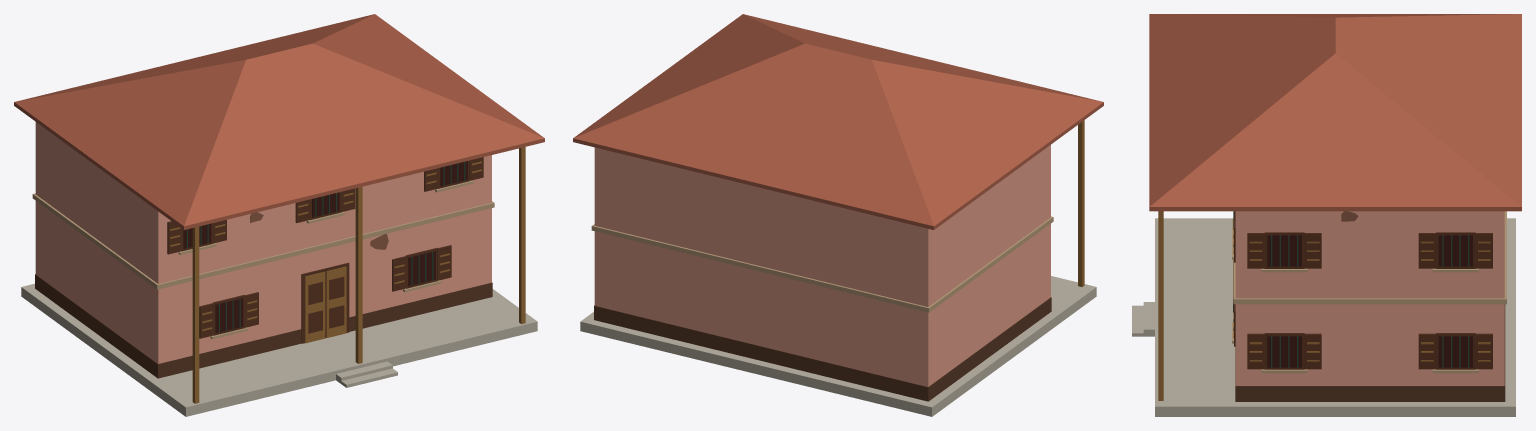
File: training_college.glb
The picture shows the model from 3 angles, left to right: view 1: azimuth 30°, elevation 25°; view 2: azimuth 150°, elevation 25°; view 3: azimuth 270°, elevation 25°; orthographic projection. The views are drawn at different scales.
Parts seen in each view (by area): view 1: Roof, Walls, Base, Details; view 2: Walls, Roof, Base, Details; view 3: Roof, Walls, Base, Details.
Part boxes in pixels (<box>): Roof: <box>14,14,544,229</box>; Walls: <box>32,122,494,378</box>; Base: <box>21,283,537,416</box>; Details: <box>167,147,525,403</box>; Walls: <box>591,145,1053,401</box>; Roof: <box>573,14,1103,229</box>; Base: <box>580,276,1096,416</box>; Details: <box>1078,120,1084,286</box>; Roof: <box>1149,14,1521,211</box>; Walls: <box>1233,211,1506,401</box>; Base: <box>1132,218,1515,416</box>; Details: <box>1158,211,1492,400</box>.
Size of what is drawn, in the model's own units: 11.9 by 8.26 by 10.15.
